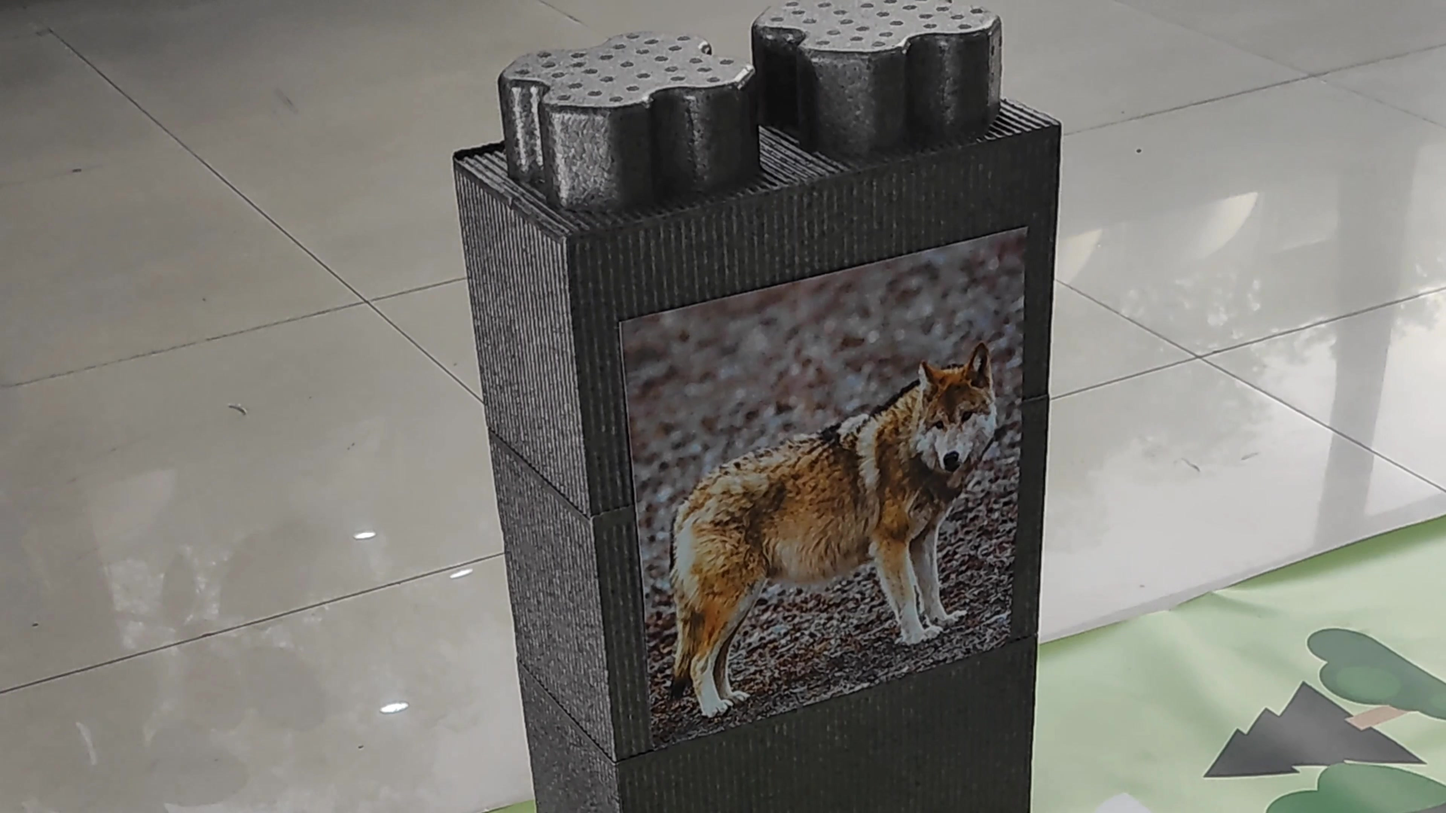wolf: (651, 340, 1009, 728)
